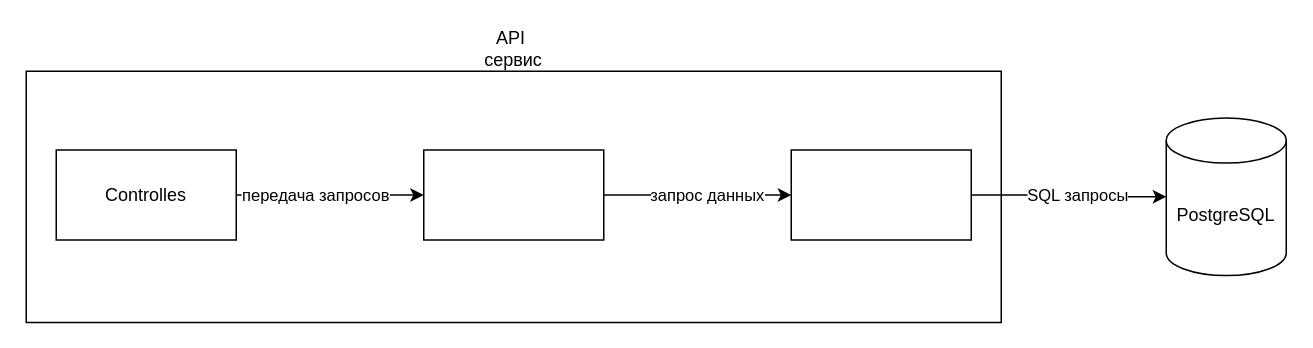
This 1313x348 diagram has some shape labels left out. The shapes that lost their labels are listed below. From the top down, each one's box as (x1, y1, x2, y2) in pixels, then its label:
(422, 148, 604, 240): Services
(790, 148, 971, 240): Repositories
